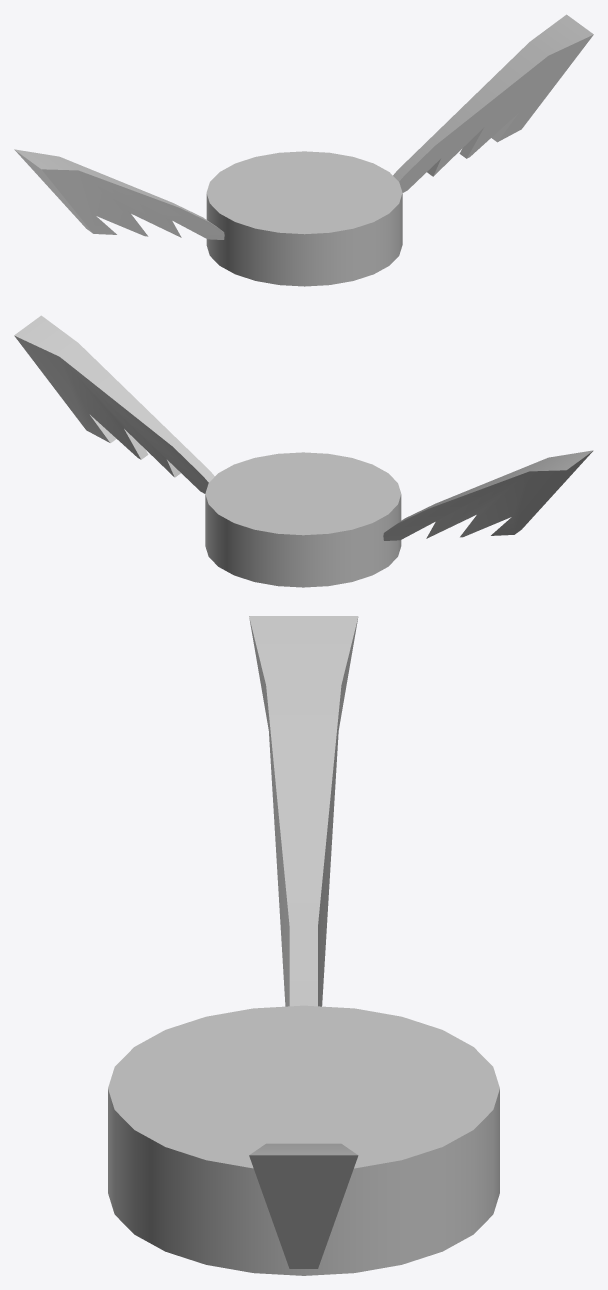
The model's file is Hockey Puck Wing Silver.fbx.
3 views of the same model, one above another, from view 1: azimuth 30°, elevation 25°; view 2: azimuth 150°, elevation 25°; view 3: azimuth 270°, elevation 25° (orthographic). The views are drawn at different scales.
Visible parts, largest first — view 1: Hockey Puck Wing Silver; view 2: Hockey Puck Wing Silver; view 3: Hockey Puck Wing Silver.
Part boxes in pixels (x1,y1,x2,y2): Hockey Puck Wing Silver: [14, 14, 593, 286]; Hockey Puck Wing Silver: [14, 315, 593, 587]; Hockey Puck Wing Silver: [108, 616, 499, 1275].
Bounding box in the file's own units: 1.2 × 0.3173 × 0.3674.
